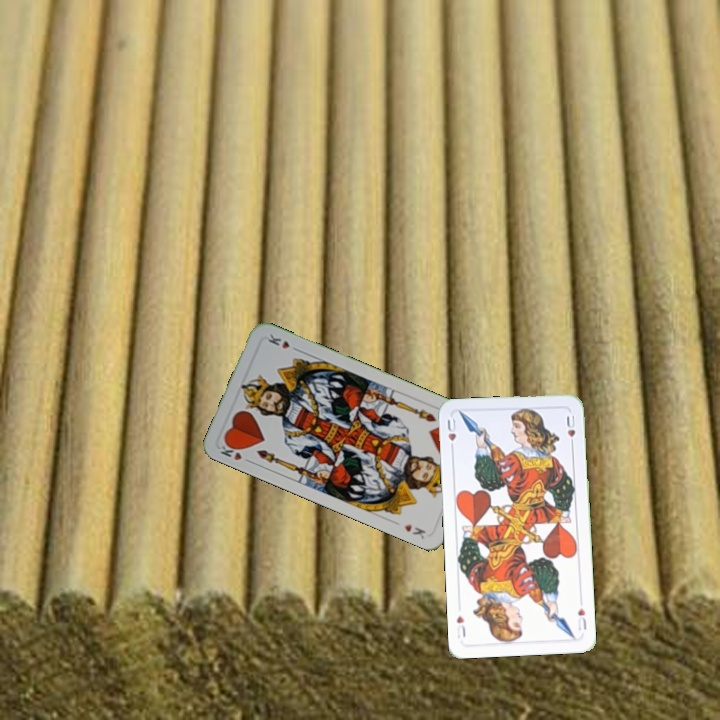HK: (216, 438, 245, 463)
HU: (443, 415, 459, 454), (574, 604, 589, 633)
